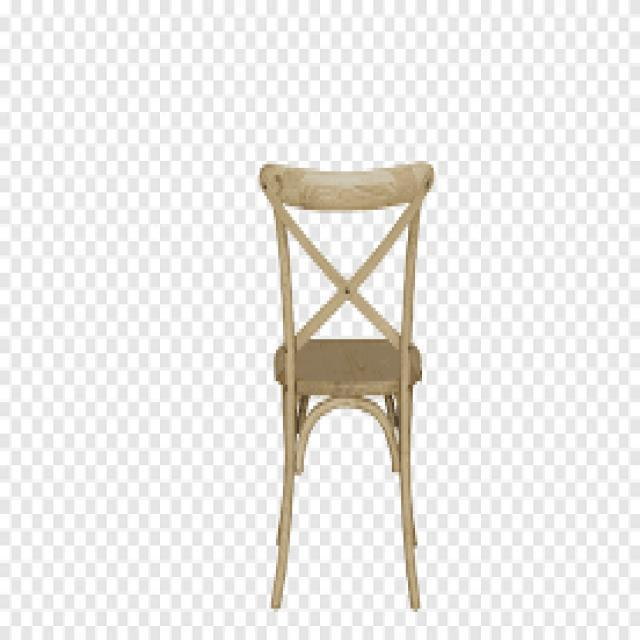chair: (254, 154, 436, 612)
